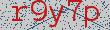7: (66, 1, 83, 28)
9: (29, 1, 49, 28)
p: (83, 4, 103, 29)
r: (10, 3, 29, 27)
y: (47, 1, 66, 29)
